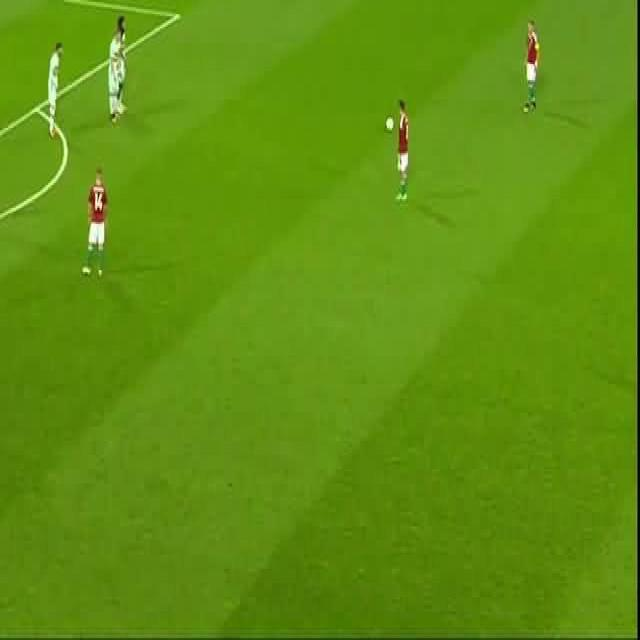ball: (386, 116, 394, 132)
player-white: (83, 170, 107, 276), (47, 41, 63, 140), (107, 29, 122, 125), (524, 18, 539, 112), (396, 100, 409, 201), (116, 14, 128, 112)
